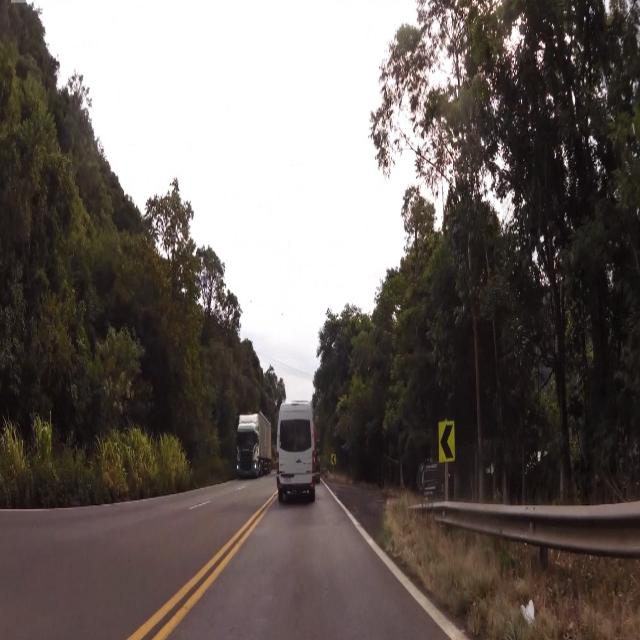Del: (438, 418, 454, 464)
